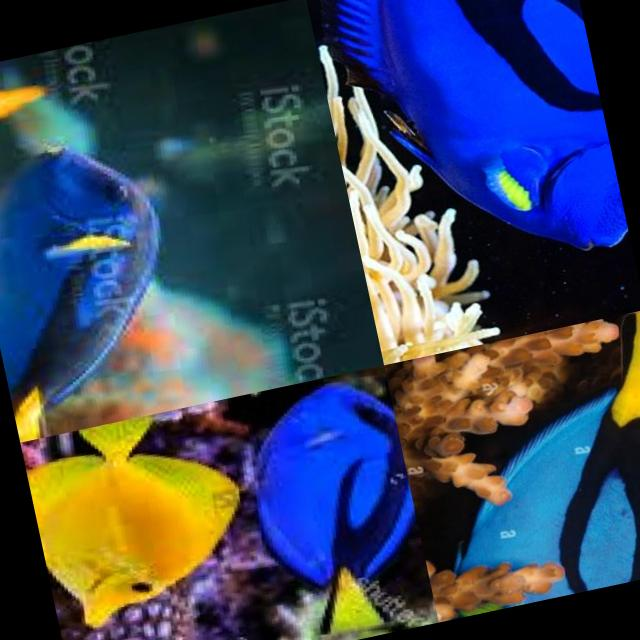BlueTang: (339, 0, 629, 287), (0, 124, 195, 442), (438, 325, 640, 611), (232, 369, 437, 640)
YellowTang: (22, 401, 262, 638)
